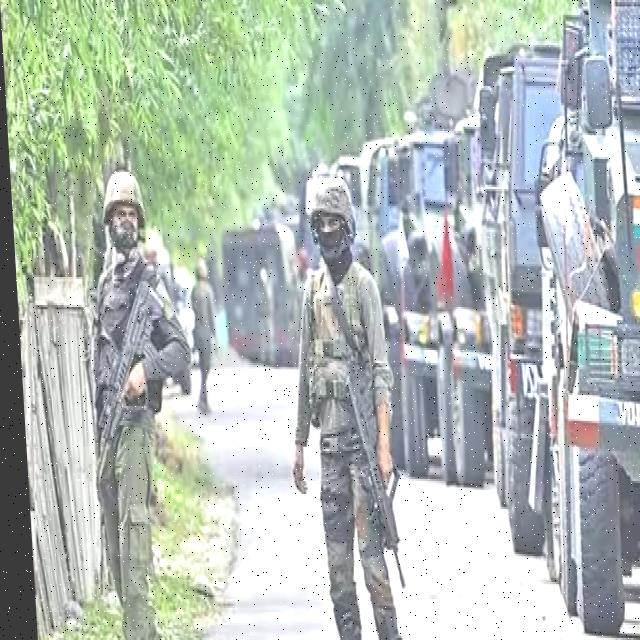unit number: (612, 400, 640, 432)
